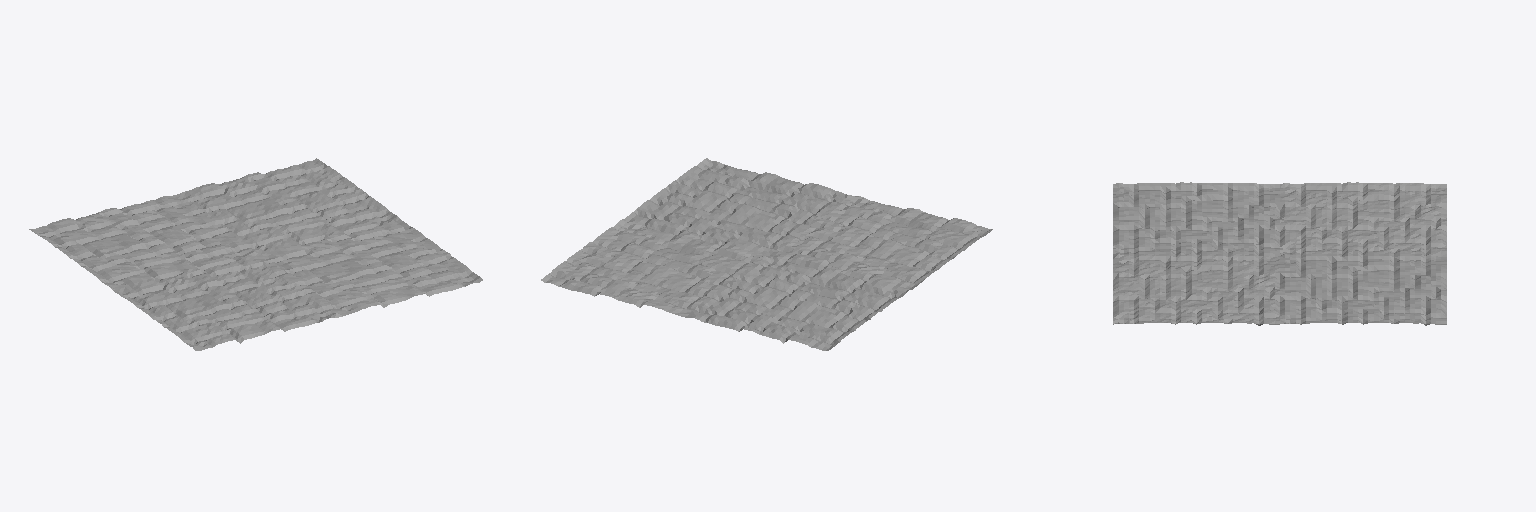
The model's file is testshader.obj.
3 renders of one model, left to right at view 1: azimuth 30°, elevation 25°; view 2: azimuth 150°, elevation 25°; view 3: azimuth 270°, elevation 25°, orthographic.
Parts seen in each view (by area): view 1: Plane; view 2: Plane; view 3: Plane.
Boxes of the visible parts, box(x1,y1,x2,y2) form: Plane: box(29, 158, 482, 350); Plane: box(541, 158, 992, 350); Plane: box(1113, 182, 1446, 325).
Bounding box in the file's own units: 42.89 × 1.06 × 42.89.